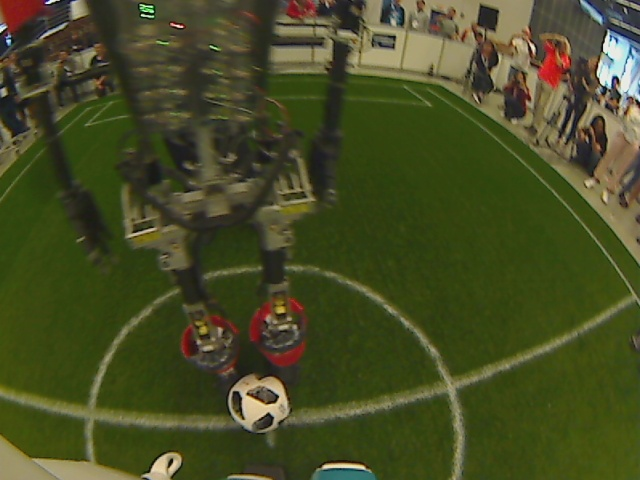ball: (224, 368, 296, 437)
